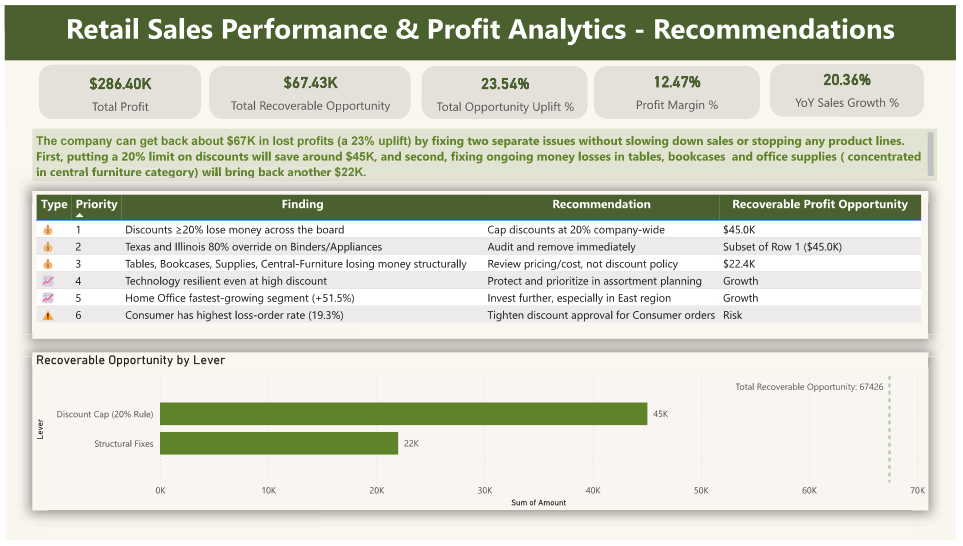

Layout of this report page (visuals, bound fields, positions):
{"tool":"powerbi","page":{"name":"Recommendation","canvas":[1280,720],"ordinal":5},"visuals":[{"type":"shape","box":[275.4,81.6,270.3,71.4],"z":0},{"type":"shape","box":[793,81.6,223.1,71.4],"z":1000},{"type":"shape","box":[1030.1,79,206.5,71.4],"z":2000},{"type":"textbox","box":[0,0,1279.7,73.7],"z":3000},{"type":"shape","box":[45.9,80.3,218,72.7],"z":4000},{"type":"textbox","box":[37,165.7,1217.5,71.4],"z":5000},{"type":"tableEx","fields":{"Values":["Recommendations.Type","Recommendations.Priority","Recommendations.Finding","Recommendations.Recommendation","Recommendations.Recoverable Profit Opportunity"]},"box":[37,249.9,1206.1,198.9],"z":6000},{"type":"card","fields":{"Values":["Fact-Superstore.Total Revenue"]},"box":[72.7,81.6,165.7,68.8],"z":7000},{"type":"card","fields":{"Values":["Fact-Superstore.Profit Margin"]},"box":[824.9,77.8,159.4,71.4],"z":8000},{"type":"card","fields":{"Values":["Fact-Superstore.YoY Sales Growth %"]},"box":[1048,76.5,170.8,68.8],"z":9000},{"type":"clusteredBarChart","title":"Recoverable Opportunity by Lever","fields":{"Category":["Opportunity Breakdown.Lever"],"Y":["Sum(Opportunity Breakdown.Amount)"]},"box":[37,466.6,1206.1,212.9],"z":10000},{"type":"card","fields":{"Values":["Recommendations.Total Recoverable Opportunity"]},"box":[295.8,80.3,230.8,68.8],"z":11000},{"type":"shape","box":[561,81.6,223.1,71.4],"z":11001},{"type":"card","fields":{"Values":["Fact-Superstore.Total Opportunity Uplift %"]},"box":[573.7,80.3,198.9,71.4],"z":11002}]}

Visuals, with their boxes in screenshot pixels (x1, y1, x2, y2), scaled from the page's 1280x720 canvas onto the 963x546 screenshot:
shape: (left=207, top=62, right=411, bottom=116)
shape: (left=597, top=62, right=764, bottom=116)
shape: (left=775, top=60, right=930, bottom=114)
textbox: (left=0, top=0, right=962, bottom=56)
shape: (left=35, top=61, right=199, bottom=116)
textbox: (left=28, top=126, right=944, bottom=180)
tableEx - Recommendations.Type x Recommendations.Priority: (left=28, top=190, right=935, bottom=340)
card - Fact-Superstore.Total Revenue: (left=55, top=62, right=179, bottom=114)
card - Fact-Superstore.Profit Margin: (left=621, top=59, right=741, bottom=113)
card - Fact-Superstore.YoY Sales Growth %: (left=788, top=58, right=917, bottom=110)
"Recoverable Opportunity by Lever" clusteredBarChart: (left=28, top=354, right=935, bottom=515)
card - Recommendations.Total Recoverable Opportunity: (left=223, top=61, right=396, bottom=113)
shape: (left=422, top=62, right=590, bottom=116)
card - Fact-Superstore.Total Opportunity Uplift %: (left=432, top=61, right=581, bottom=115)
